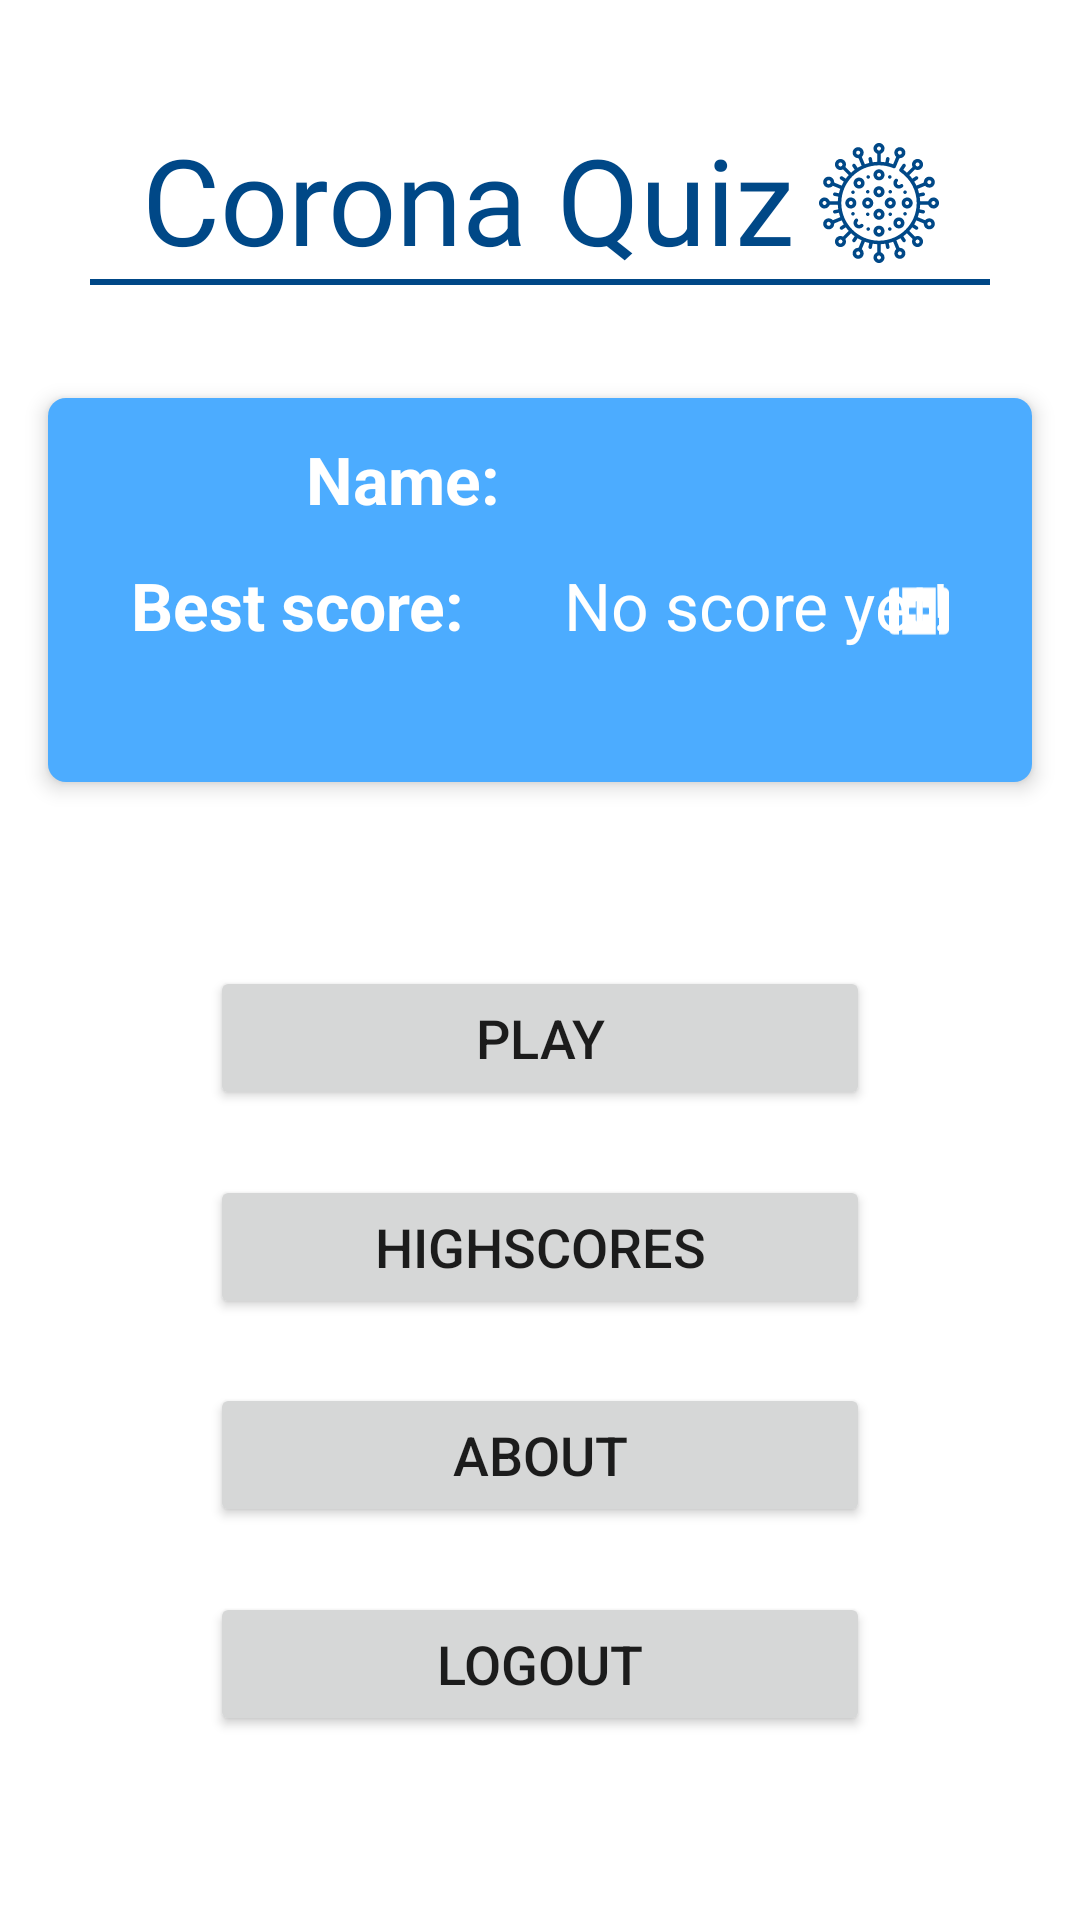

Named icons in this screenshot (1080px×1920px) and their bounding boxes, (x1, y1, x2, y2):
virus: (819, 143, 939, 263)
